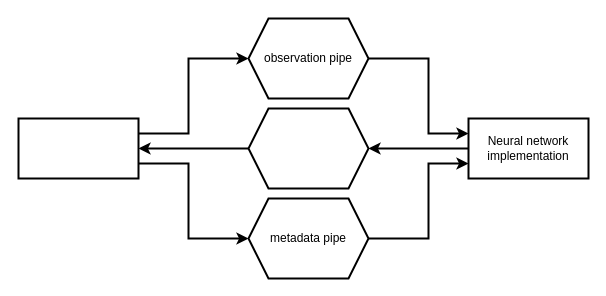
Image size: 606x296. Some labels were removed from this diagram. The box of each missing label's shape, as (x1, y1, x2, y2) in pixels:
reaction pipe: (247, 107, 369, 189)
Simulation environment: (17, 117, 139, 179)
